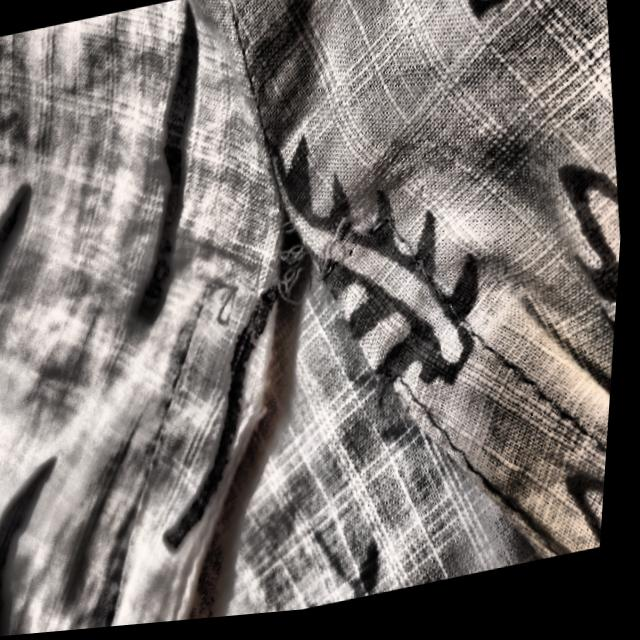Stitch: (253, 201, 392, 313)
